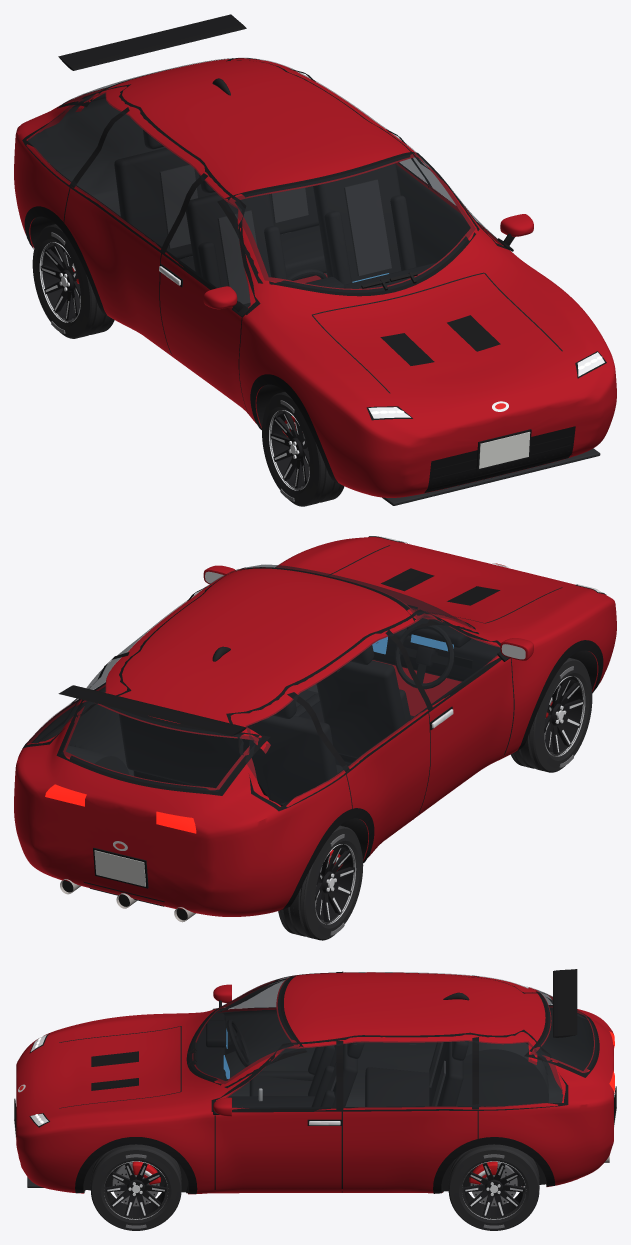
File: grcorolla.glb
The picture shows the model from 3 angles, top to bottom: view 1: azimuth 30°, elevation 25°; view 2: azimuth 150°, elevation 25°; view 3: azimuth 270°, elevation 25°; orthographic projection. The views are drawn at different scales.
Parts seen in each view (by area): view 1: Body, Wheel_FR, Wheel_RR; view 2: Body, Wheel_RR, Wheel_FR; view 3: Body, Wheel_RL, Wheel_FL.
Part boxes in pixels (x1,y1,x2,y2): Body: [14, 14, 616, 505]; Wheel_FR: [262, 392, 344, 506]; Wheel_RR: [32, 224, 114, 338]; Body: [14, 535, 616, 922]; Wheel_RR: [278, 825, 363, 940]; Wheel_FR: [510, 658, 592, 772]; Body: [14, 969, 616, 1194]; Wheel_RL: [448, 1144, 539, 1230]; Wheel_FL: [90, 1144, 181, 1230].
Size of the model in its own units: 2.16 by 1.52 by 4.45.
